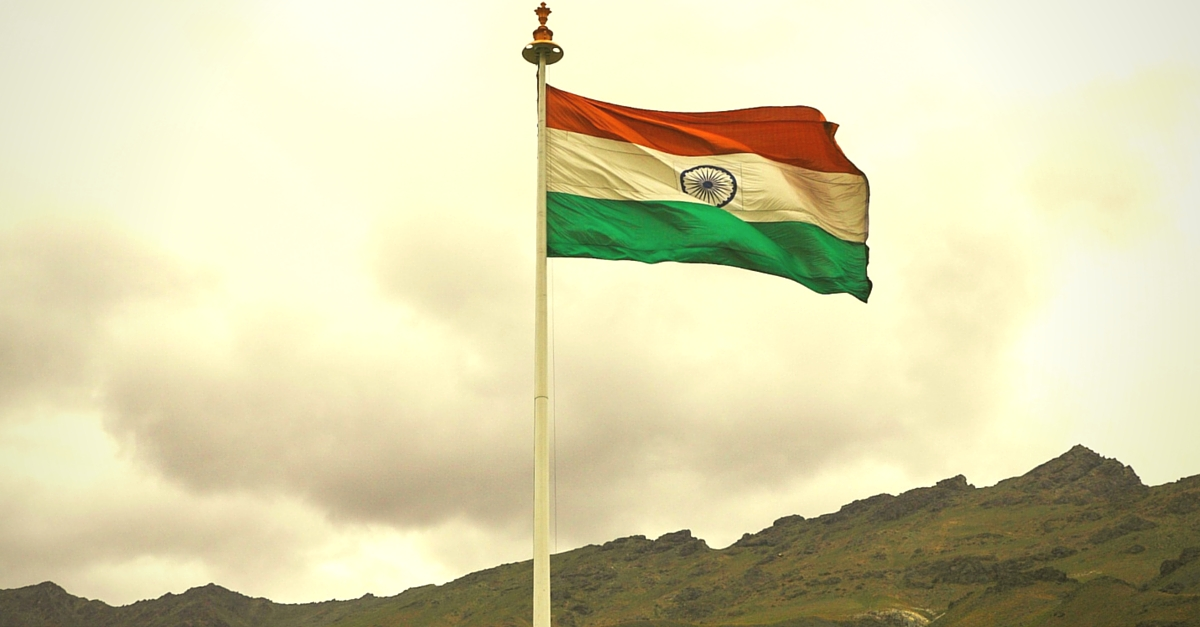flag: (497, 51, 941, 314)
